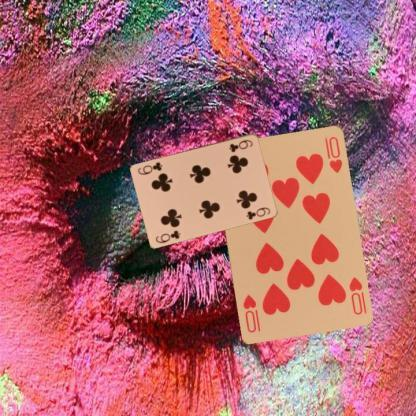10h: (346, 274, 364, 316)
6c: (153, 227, 182, 244), (226, 137, 254, 153)
